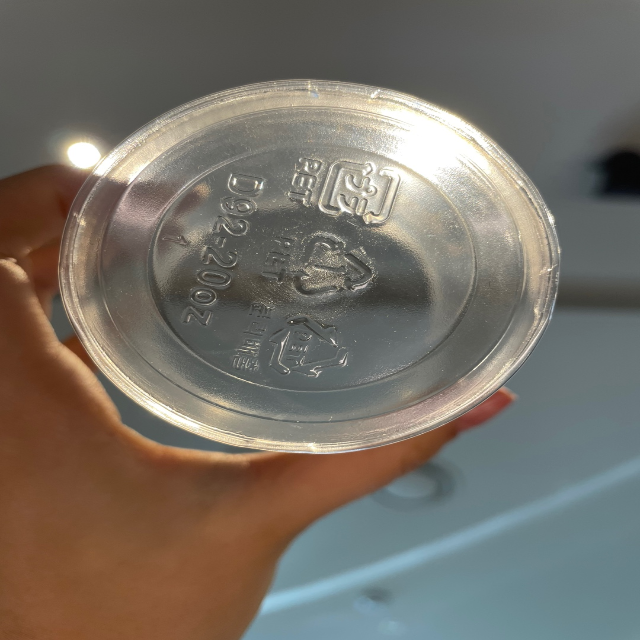pet: (227, 300, 352, 384), (282, 146, 402, 229), (256, 231, 384, 300)
